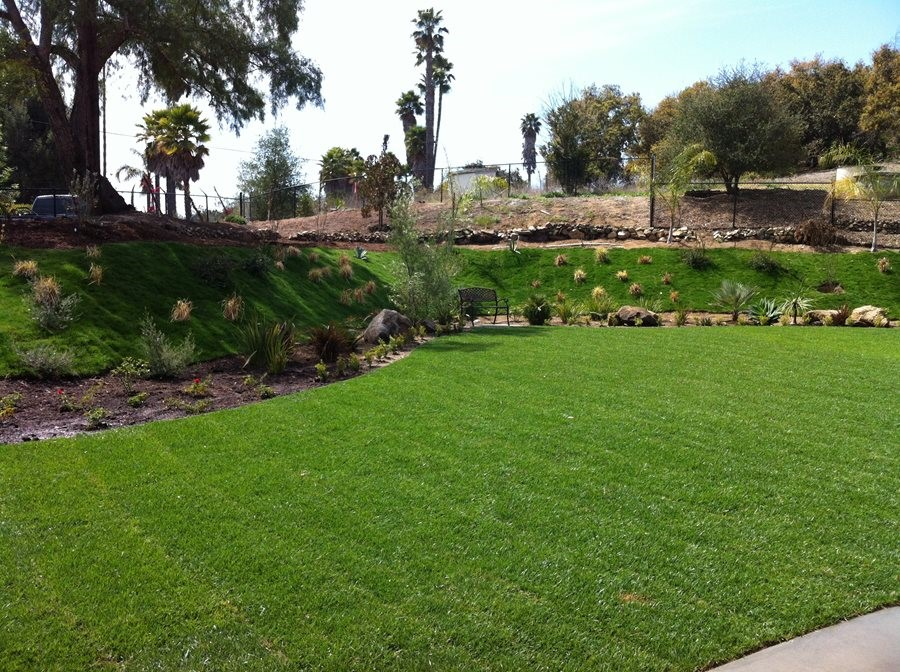grass: (386, 322, 893, 668), (3, 403, 214, 669), (221, 366, 381, 666), (3, 245, 366, 355), (369, 245, 896, 305)
